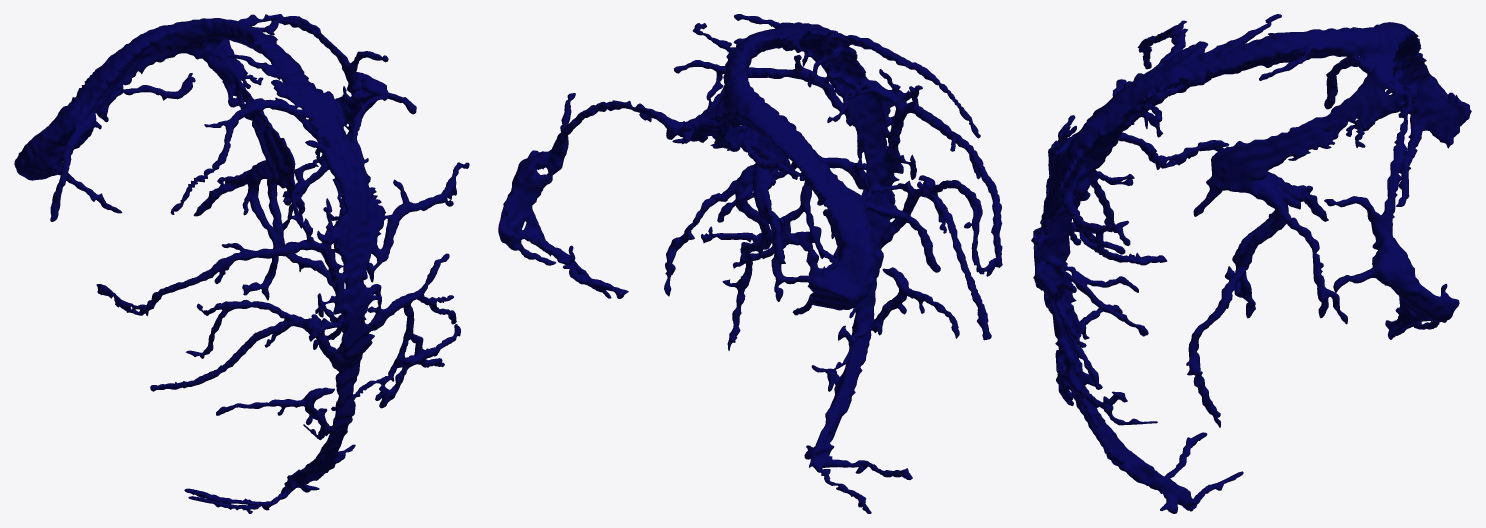
The model's file is Venous_sinus.obj.
The picture shows the model from 3 angles, left to right: view 1: azimuth 30°, elevation 25°; view 2: azimuth 150°, elevation 25°; view 3: azimuth 270°, elevation 25°; orthographic projection. The views are drawn at different scales.
Parts seen in each view (by area): view 1: grp1; view 2: grp1; view 3: grp1.
Boxes of the visible parts, x1,y1,x2,y2 form: grp1: (14, 14, 469, 513); grp1: (498, 14, 1002, 513); grp1: (1031, 14, 1471, 513).
Bounding box in the file's own units: 138 × 157 × 126.
